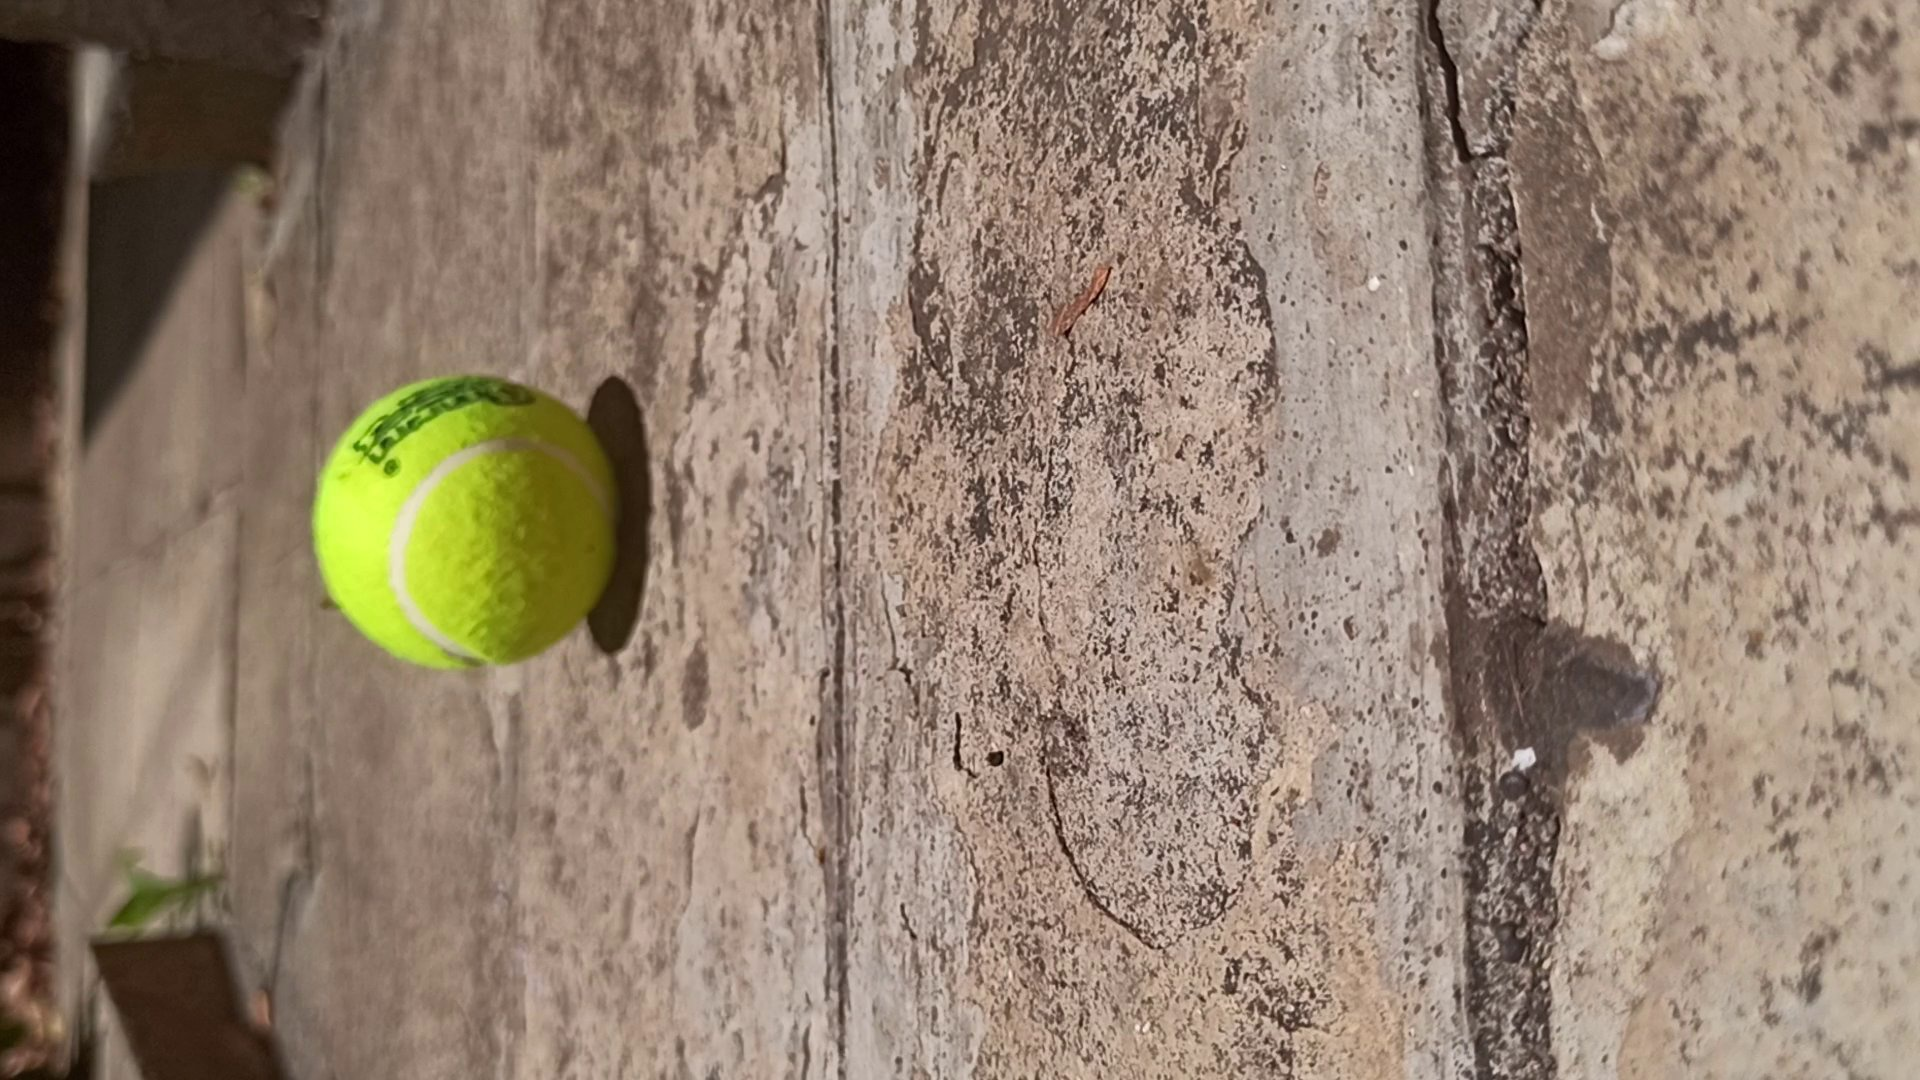Tennis-Ball: (313, 376, 618, 669)
